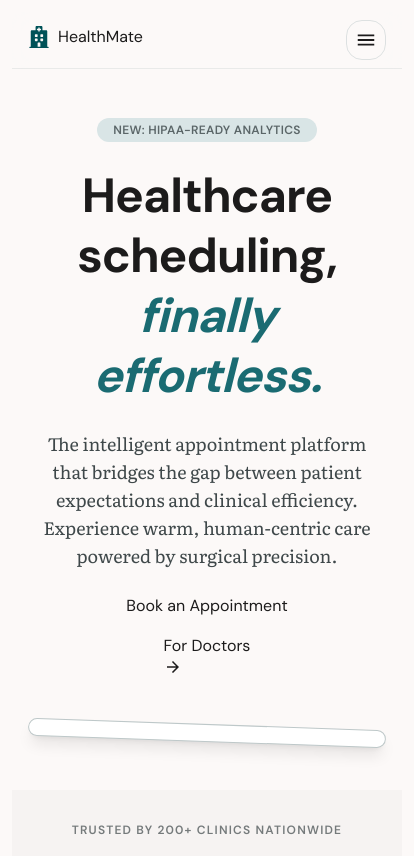
LandingPage › opens and closes the mobile navigation menu
Click the button named "open menu" at (366, 40), box [346, 20, 386, 60]
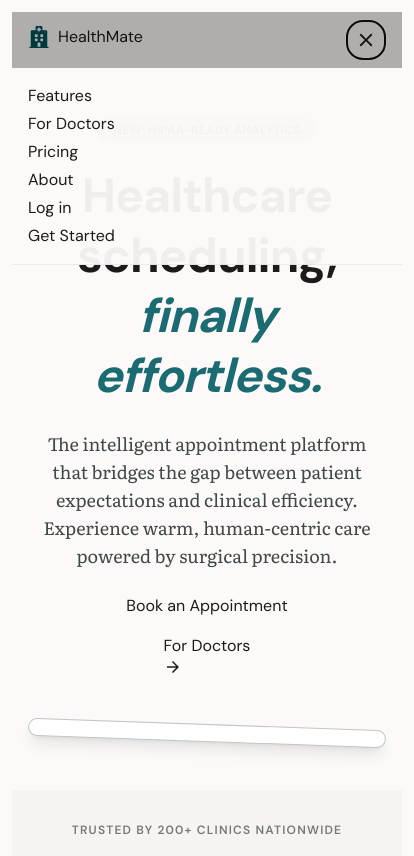
Now the element with id "mobile-nav-menu" is shown, box [12, 68, 402, 265]
Click the button named "dismiss navigation menu" at (207, 40), box [12, 12, 402, 68]
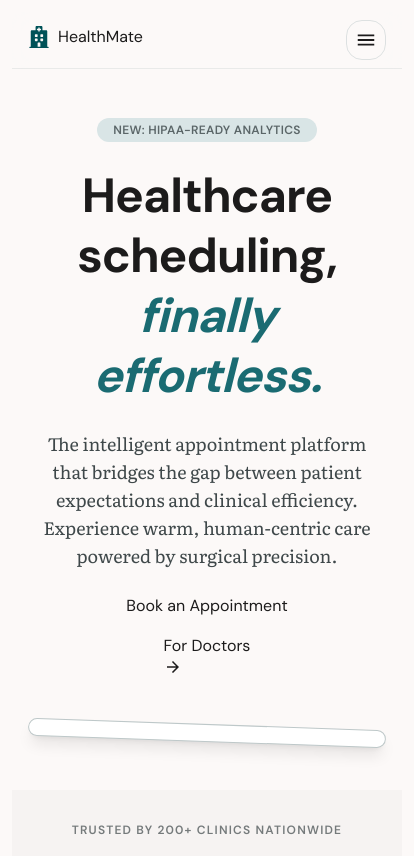
Now the element with id "mobile-nav-menu" is gone
